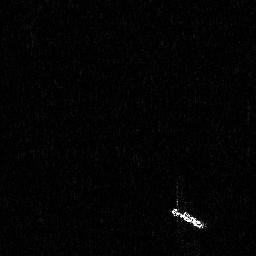ship: (168, 202, 210, 232)
